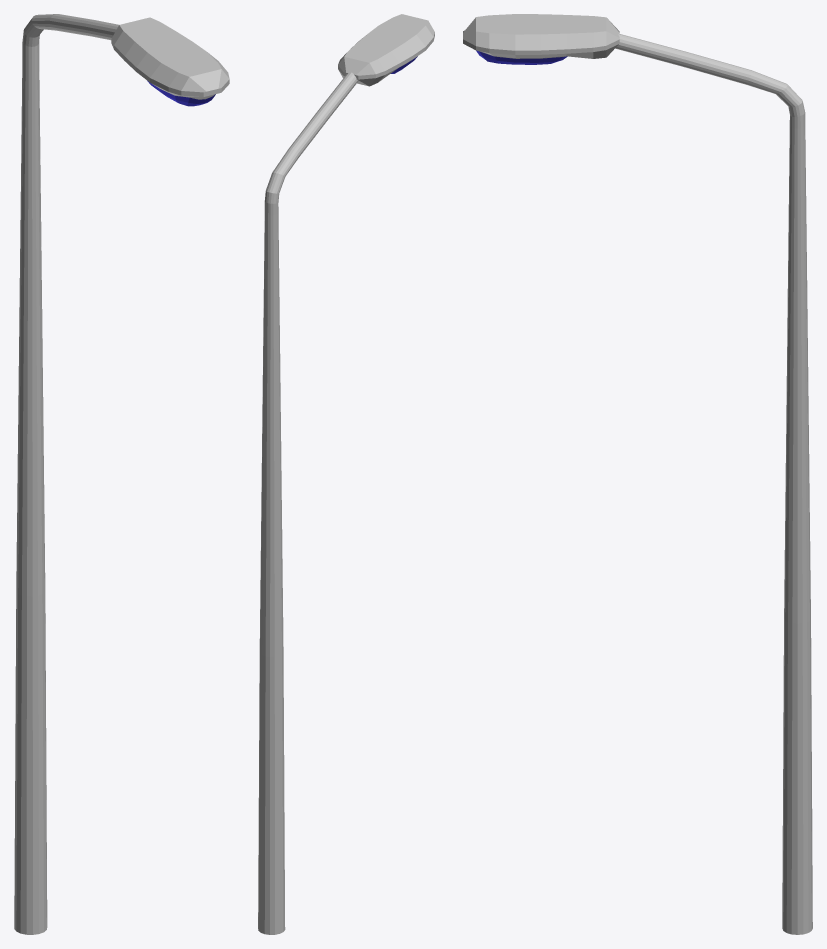
The model's file is street_light.glb.
3 renders of one model, left to right at view 1: azimuth 30°, elevation 25°; view 2: azimuth 150°, elevation 25°; view 3: azimuth 270°, elevation 25°, orthographic. The views are drawn at different scales.
Visible parts, largest first — view 1: Cube; view 2: Cube; view 3: Cube.
Boxes of the visible parts, x1=… form: Cube: x1=14, y1=14, x2=229, y2=934; Cube: x1=258, y1=14, x2=434, y2=934; Cube: x1=463, y1=14, x2=812, y2=934.
Bounding box in the file's own units: 0.4865 × 6.65 × 2.33.
